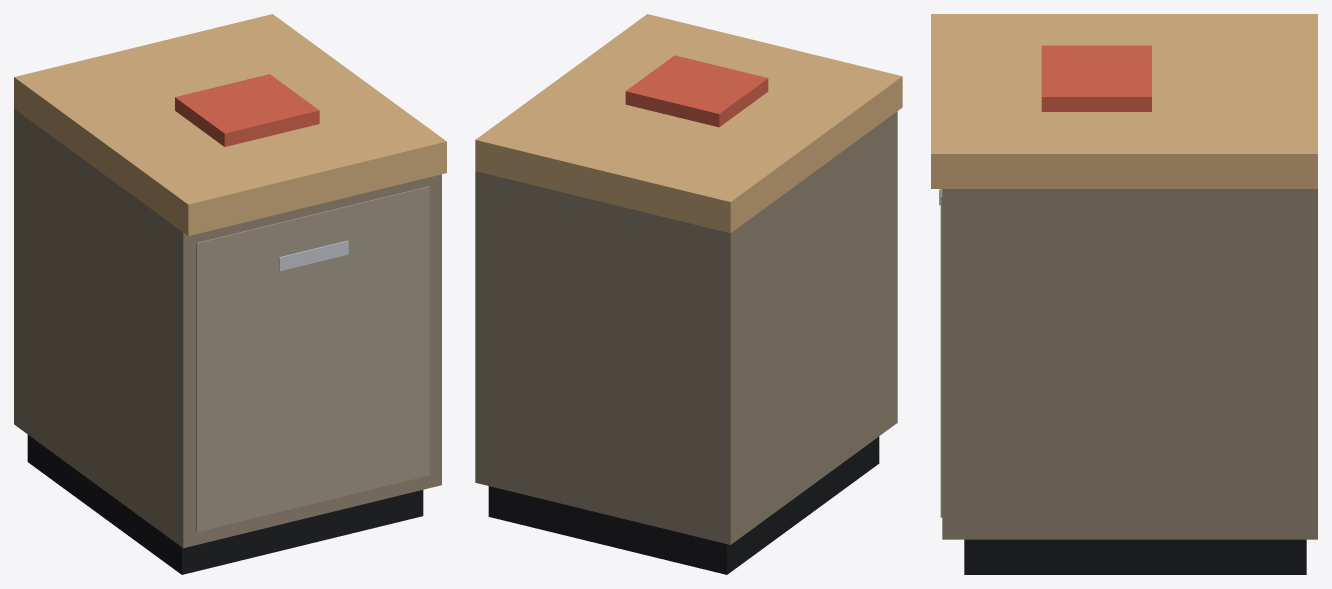
The model's file is fold_out_counter.glb.
3 renders of one model, left to right at view 1: azimuth 30°, elevation 25°; view 2: azimuth 150°, elevation 25°; view 3: azimuth 270°, elevation 25°, orthographic. The views are drawn at different scales.
Parts seen in each view (by area): view 1: fold_out_counter_Body, fold_out_counter_Board; view 2: fold_out_counter_Body, fold_out_counter_Board; view 3: fold_out_counter_Body, fold_out_counter_Board.
Part boxes in pixels (bbox=[...]): fold_out_counter_Body: bbox=[14, 109, 441, 574]; fold_out_counter_Board: bbox=[14, 14, 446, 235]; fold_out_counter_Body: bbox=[475, 111, 897, 574]; fold_out_counter_Board: bbox=[475, 14, 902, 233]; fold_out_counter_Body: bbox=[939, 189, 1317, 574]; fold_out_counter_Board: bbox=[931, 14, 1317, 188].
Size of the model in its own units: 0.6 by 0.88 by 0.7.
